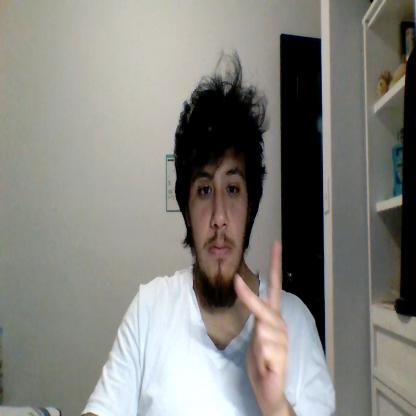P: (234, 241, 288, 406)
